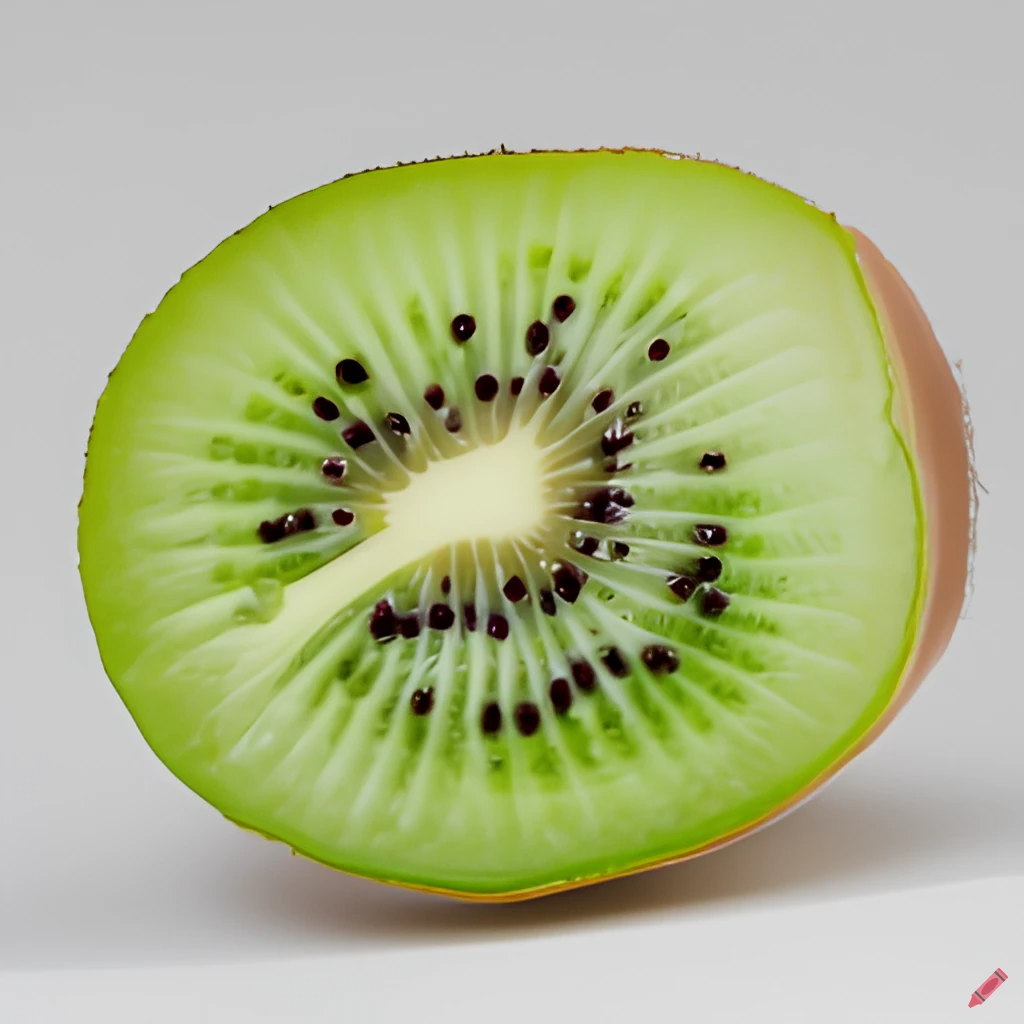Kiwi: (62, 99, 952, 956)
